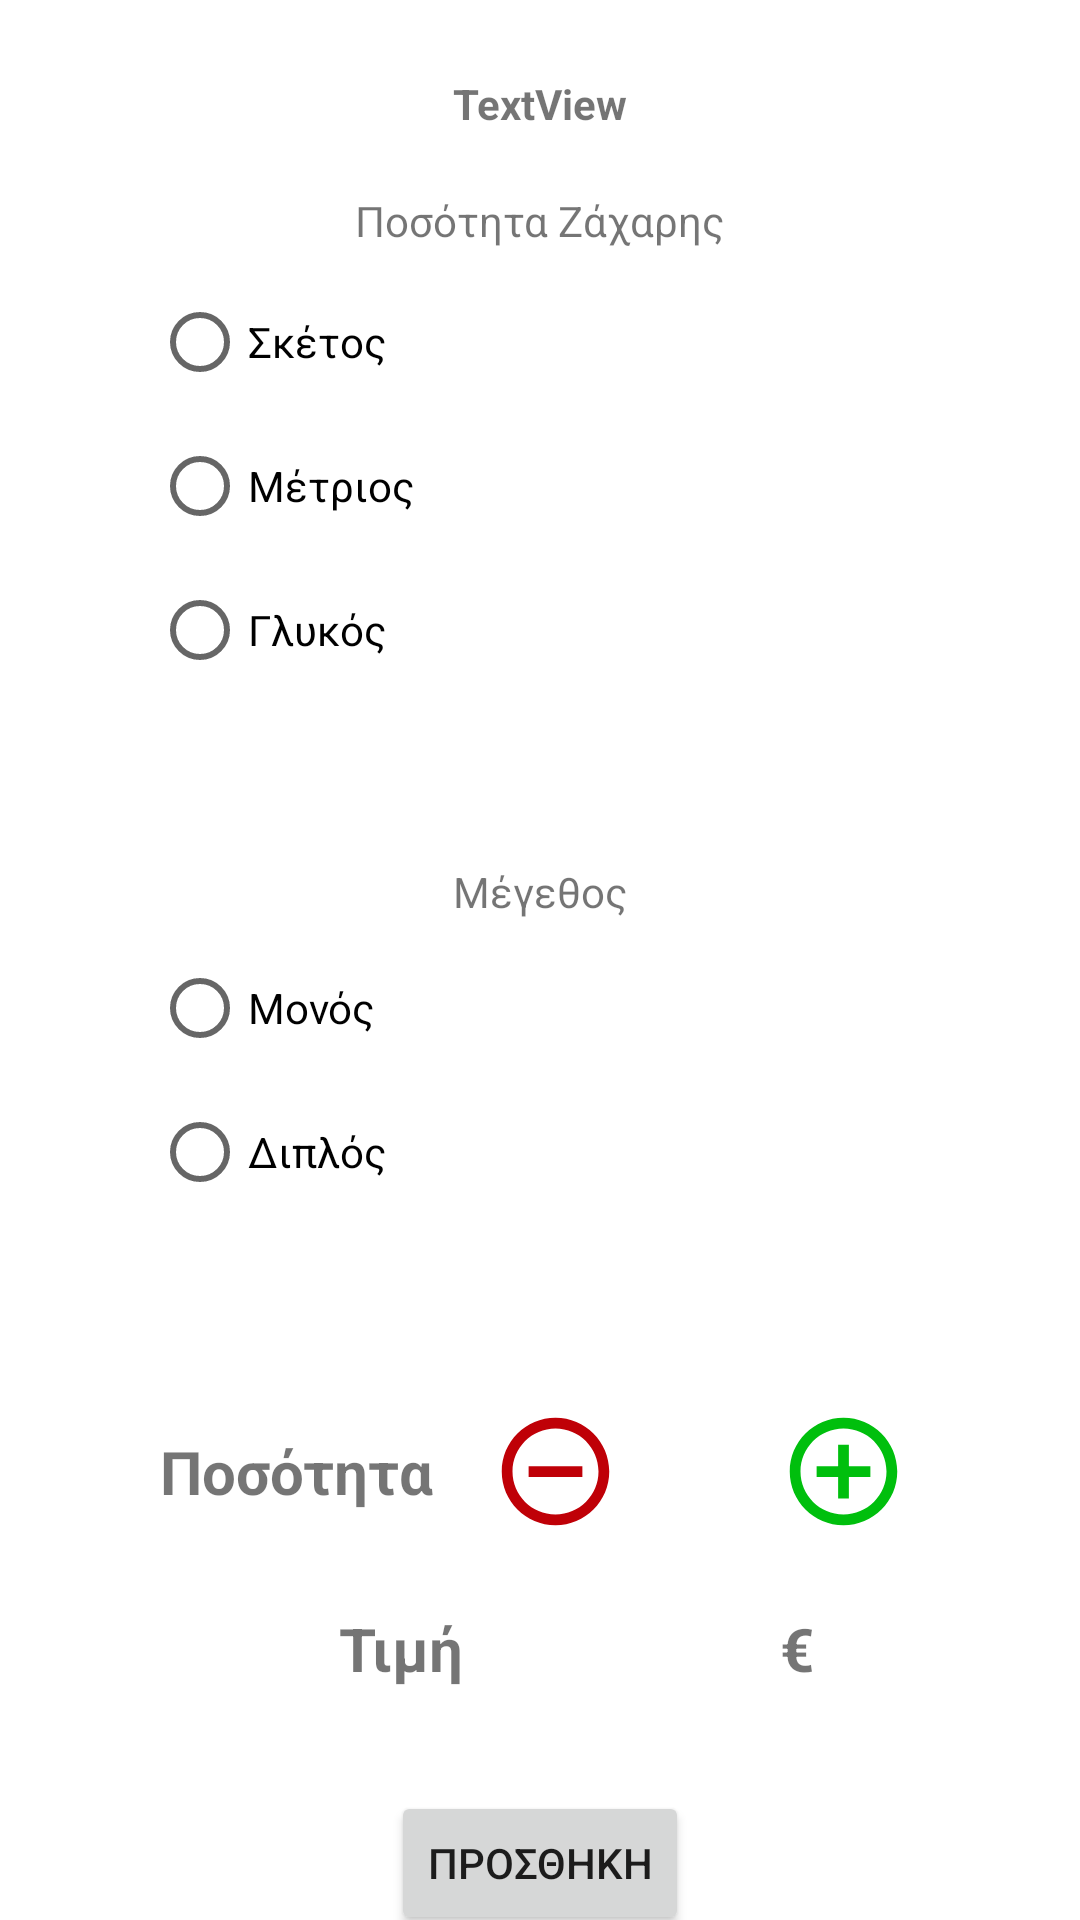

Where to tap for icons on this 1080*1920 app screen, as [x,y]:
add circle: [843,1471]
remove circle: [555,1471]
